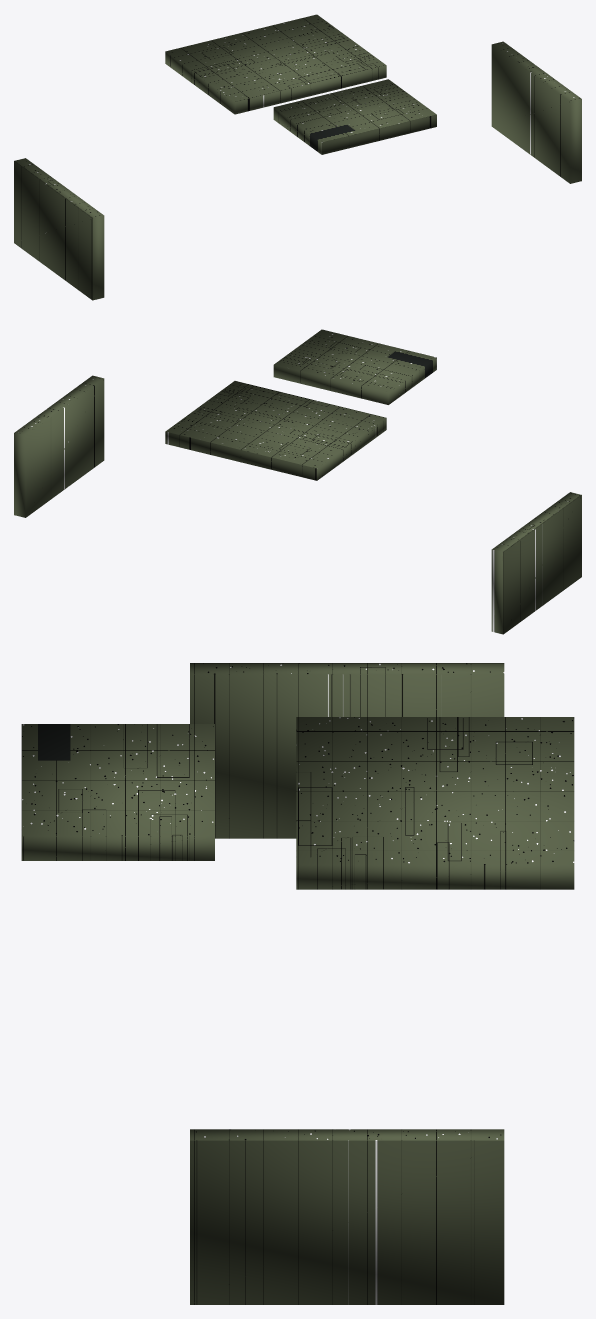
The model's file is medium_tank_team_turret.obj.
3 views of the same model, one above another, from view 1: azimuth 30°, elevation 25°; view 2: azimuth 150°, elevation 25°; view 3: azimuth 270°, elevation 25° (orthographic). The views are drawn at different scales.
Visible parts, largest first — view 1: TeamColorPanels_Turret; view 2: TeamColorPanels_Turret; view 3: TeamColorPanels_Turret.
Boxes of the visible parts, left/top/right/bottom form: TeamColorPanels_Turret: left=14, top=14, right=581, bottom=300; TeamColorPanels_Turret: left=14, top=329, right=581, bottom=634; TeamColorPanels_Turret: left=21, top=663, right=574, bottom=1304.
Size of the model in its own units: 1.87 by 0.5225 by 0.915.
